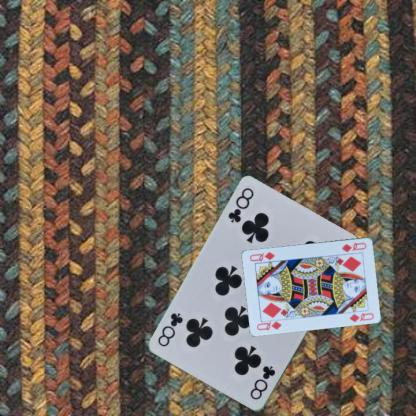8c: (226, 185, 256, 225), (247, 363, 277, 401)
Qd: (254, 316, 284, 332), (339, 240, 368, 253)
